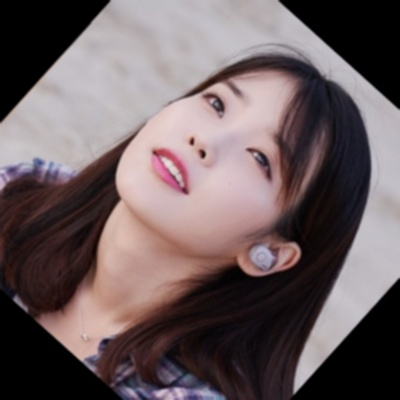earphone: (231, 219, 307, 295)
